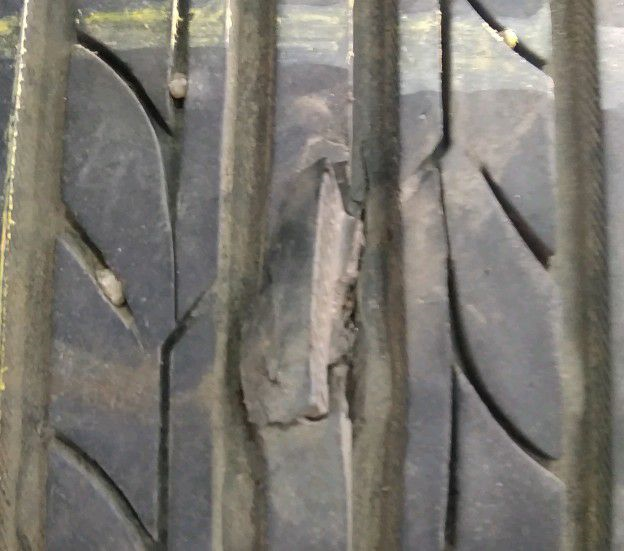tr: (260, 144, 377, 437)
